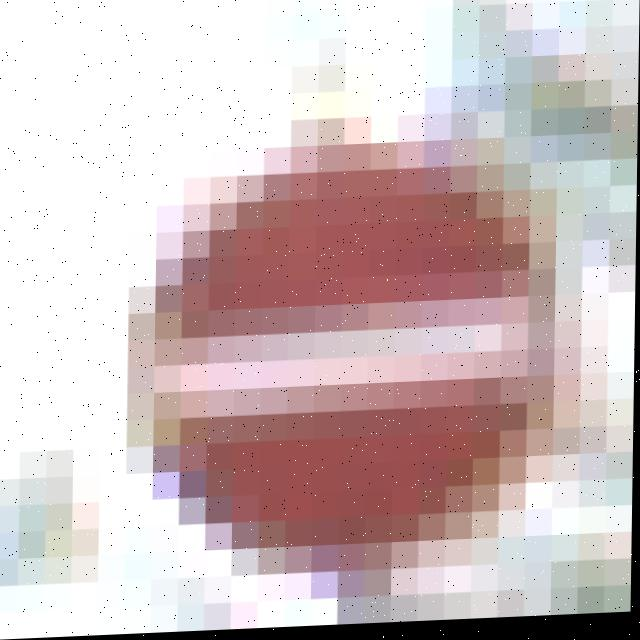road_rough: (88, 68, 593, 604)
